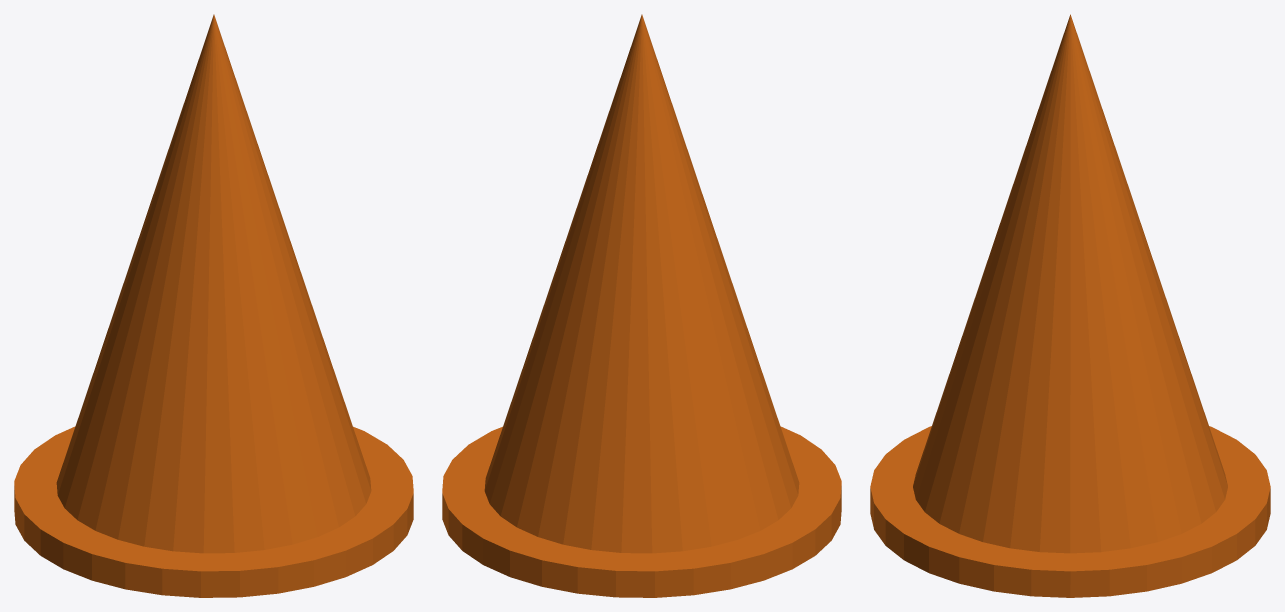
Rendered from este.fbx.
3 views of the same model, side by side, from view 1: azimuth 30°, elevation 25°; view 2: azimuth 150°, elevation 25°; view 3: azimuth 270°, elevation 25° (orthographic).
Visible parts, largest first — view 1: Sylinteri; view 2: Sylinteri; view 3: Sylinteri.
Boxes of the visible parts, bbox=[...] form: Sylinteri: bbox=[14, 14, 413, 597]; Sylinteri: bbox=[442, 14, 841, 597]; Sylinteri: bbox=[870, 14, 1270, 597].
Size of the model in its own units: 87.5 by 121 by 87.5.
